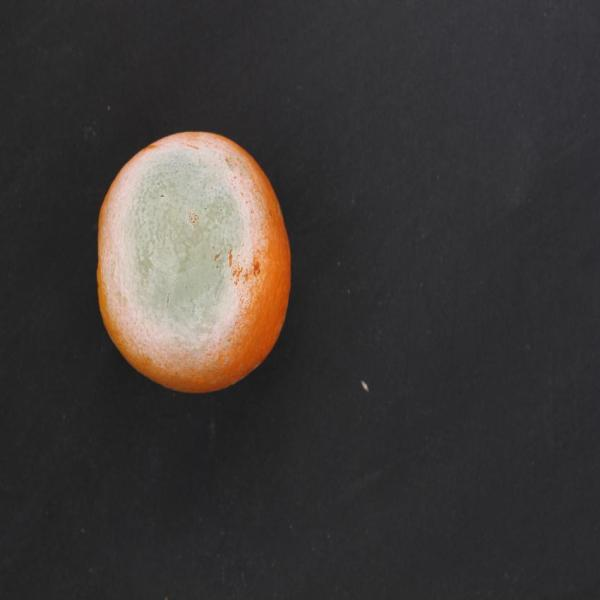Moho verde: (71, 118, 317, 409)
